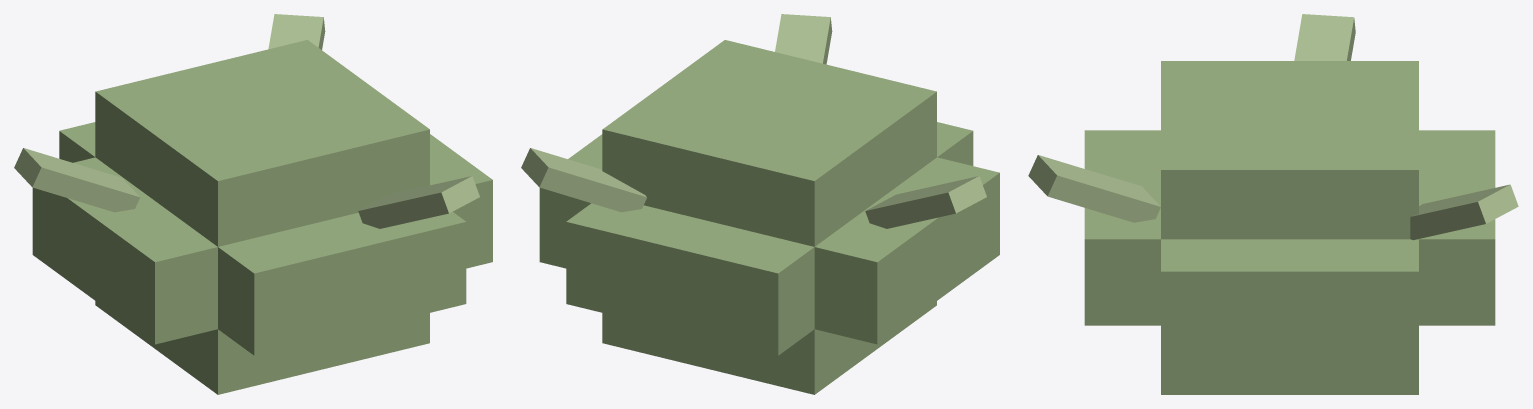
The model's file is Bush_Small.glb.
3 views of the same model, side by side, from view 1: azimuth 30°, elevation 25°; view 2: azimuth 150°, elevation 25°; view 3: azimuth 270°, elevation 25° (orthographic). The views are drawn at different scales.
Parts seen in each view (by area): view 1: geometry_0; view 2: geometry_0; view 3: geometry_0.
Boxes of the visible parts, box(x1,y1,x2,y2) form: geometry_0: box(14, 14, 492, 394); geometry_0: box(521, 14, 999, 394); geometry_0: box(1028, 14, 1518, 394).
Bounding box in the file's own units: 0.9999 × 0.52 × 1.03.
